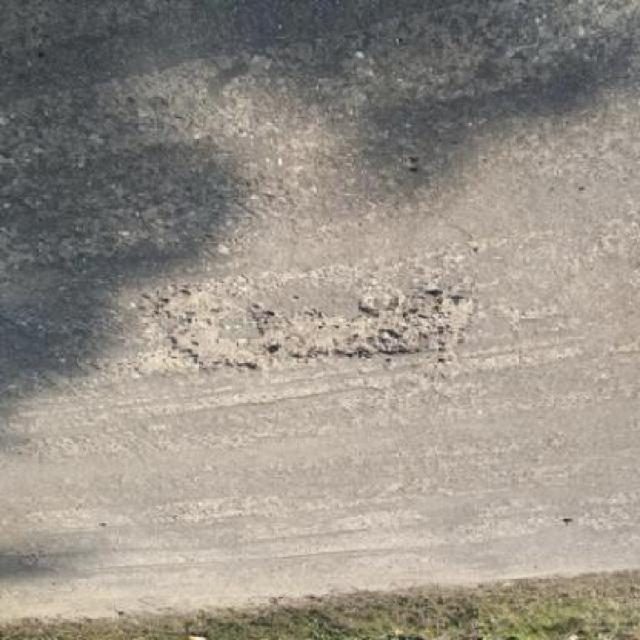pothole: (163, 288, 480, 374)
